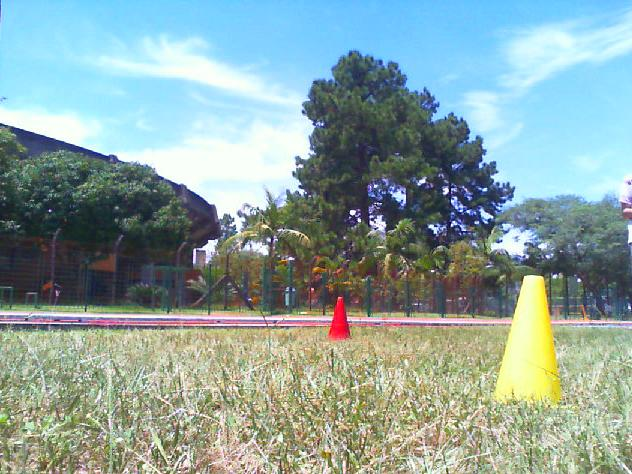0 cone: (494, 275, 562, 404), (328, 296, 352, 342)
